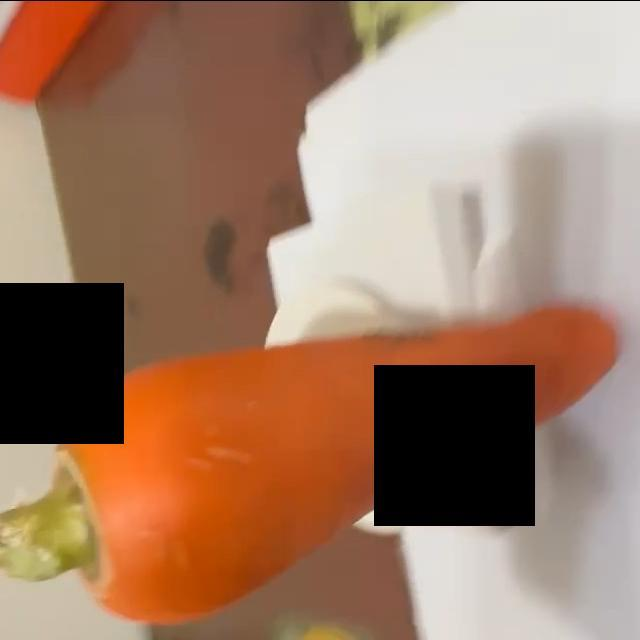carrot: (1, 303, 620, 626)
